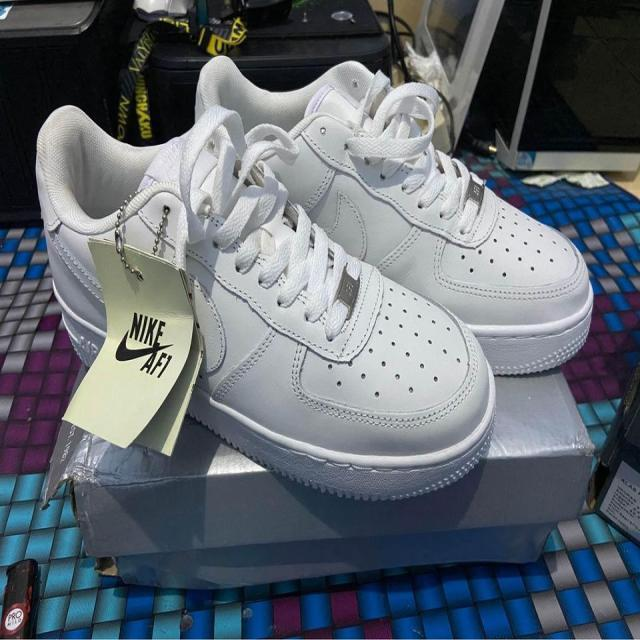nike fake air force: (33, 107, 503, 500), (190, 55, 602, 377)
